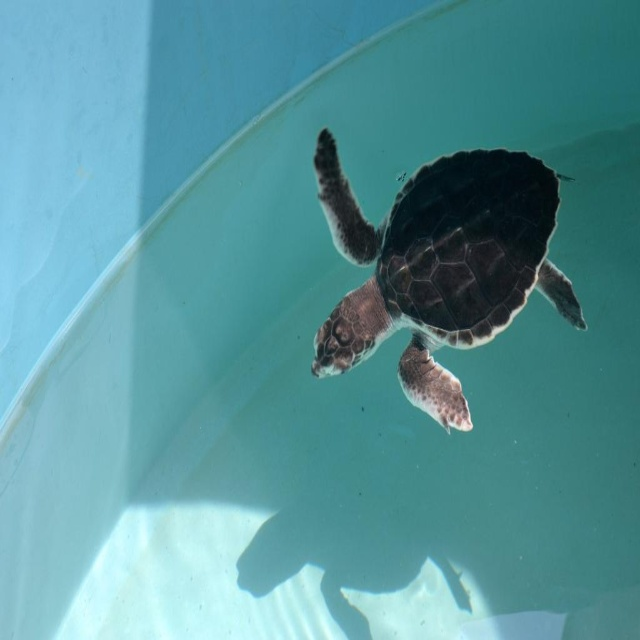Sea turtle: (310, 125, 588, 432)
